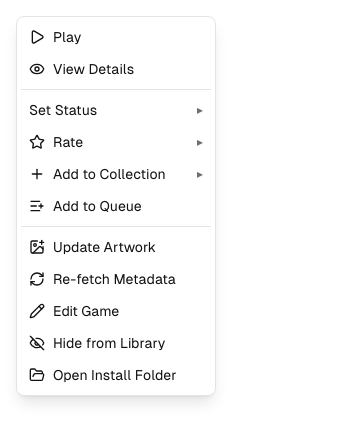
it: Story 6.4: Game Card Context Menu › Rate submenu shows 1-5 stars + Clear
The image size is (352, 422).
Hover over the menu item with test id "ctx-rate": (116, 142) [21,126,211,158]
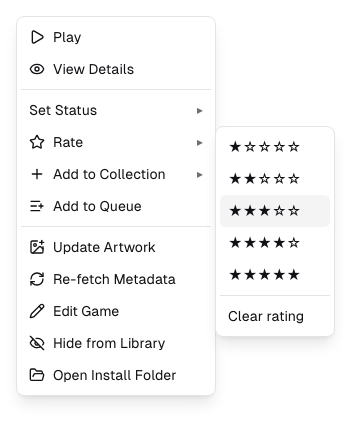
Expected: the menu with test id "ctx-rating-submenu" is shown, [215,126,335,337]
Expected: the menu item with test id "ctx-rate-1" is shown, [220,131,330,163]
Expected: the menu item with test id "ctx-rate-5" is shown, [220,259,330,291]
